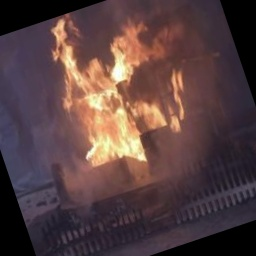fire: (31, 0, 201, 178)
